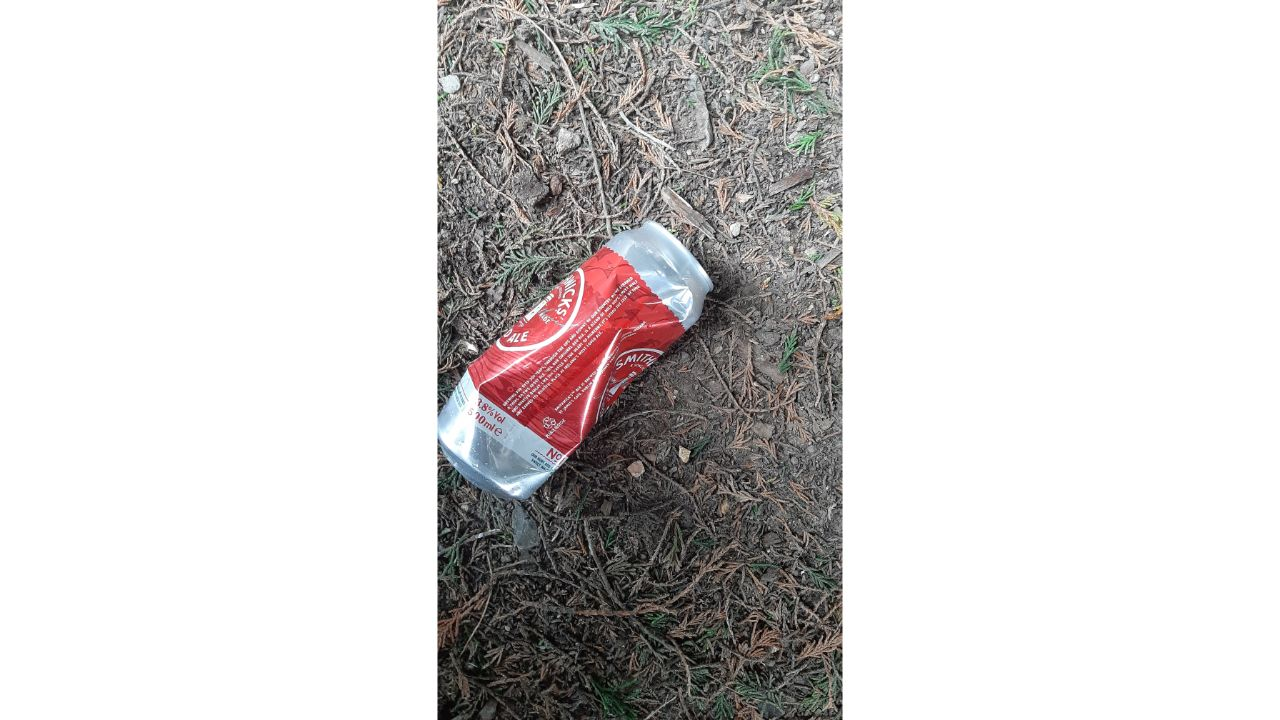Can: (437, 207, 715, 510)
